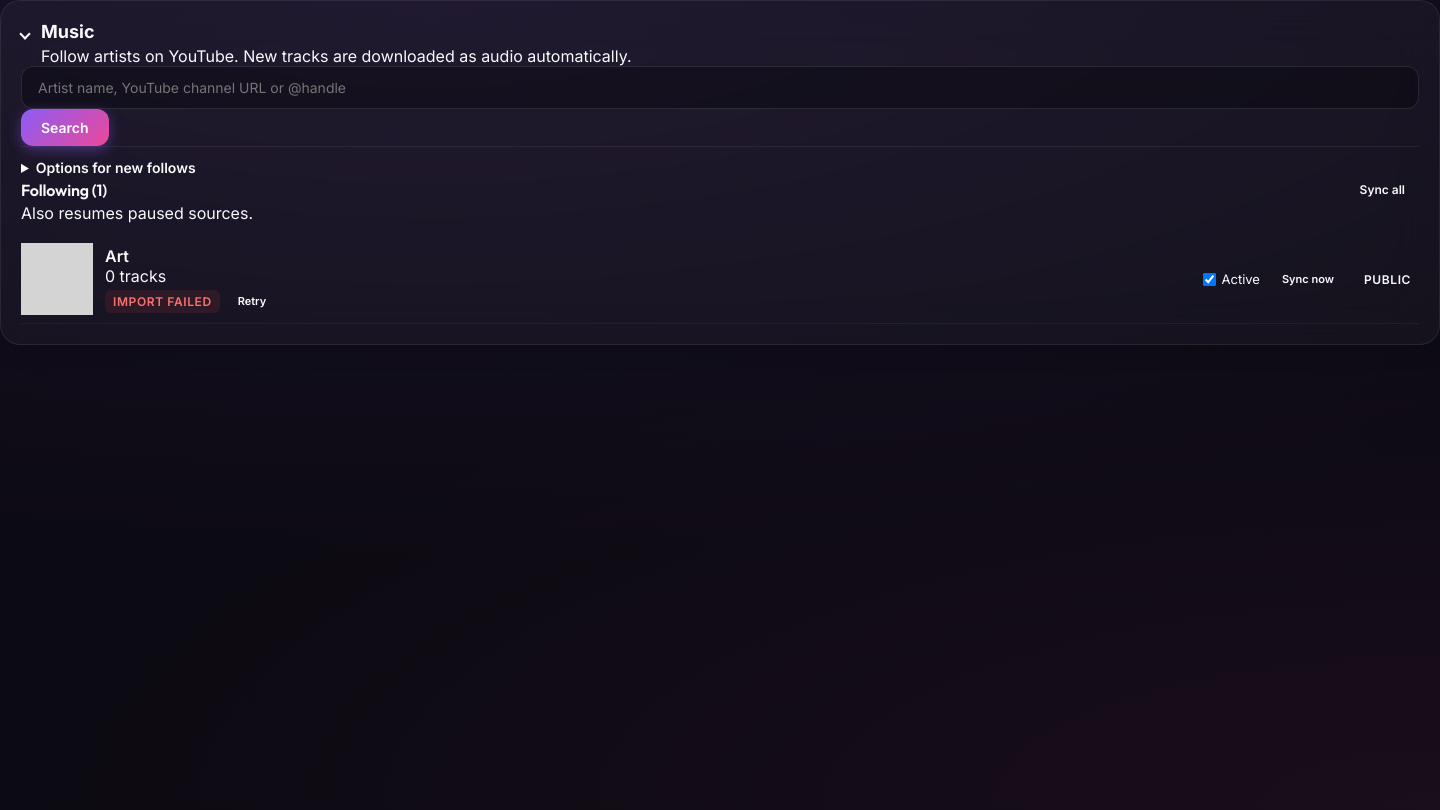
Test: LibrarySourceSection — background import › shows "Import failed" with the error and Retry runs the import again
Expected: the text with test id "import-failed-a1" reads "Import failed", left=113, top=294, right=212, bottom=308
Click the button with test id "retry-import-a1" at (252, 301), box left=228, top=290, right=276, bottom=312
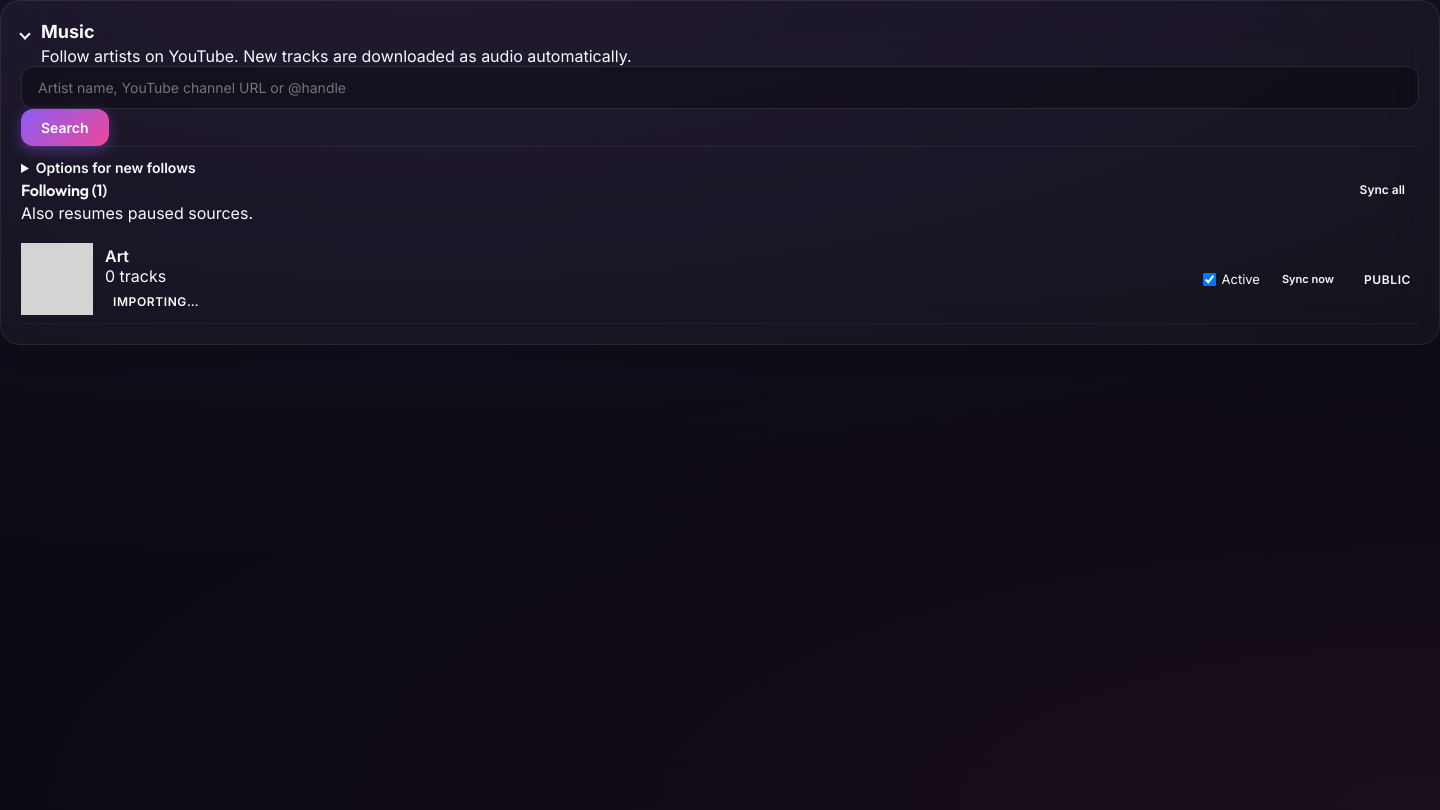
Expected: the element with test id "importing-a1" is shown, left=113, top=294, right=199, bottom=308
